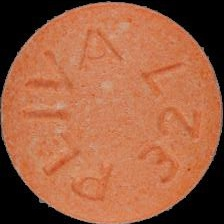55154-5689: (0, 0, 224, 224)
